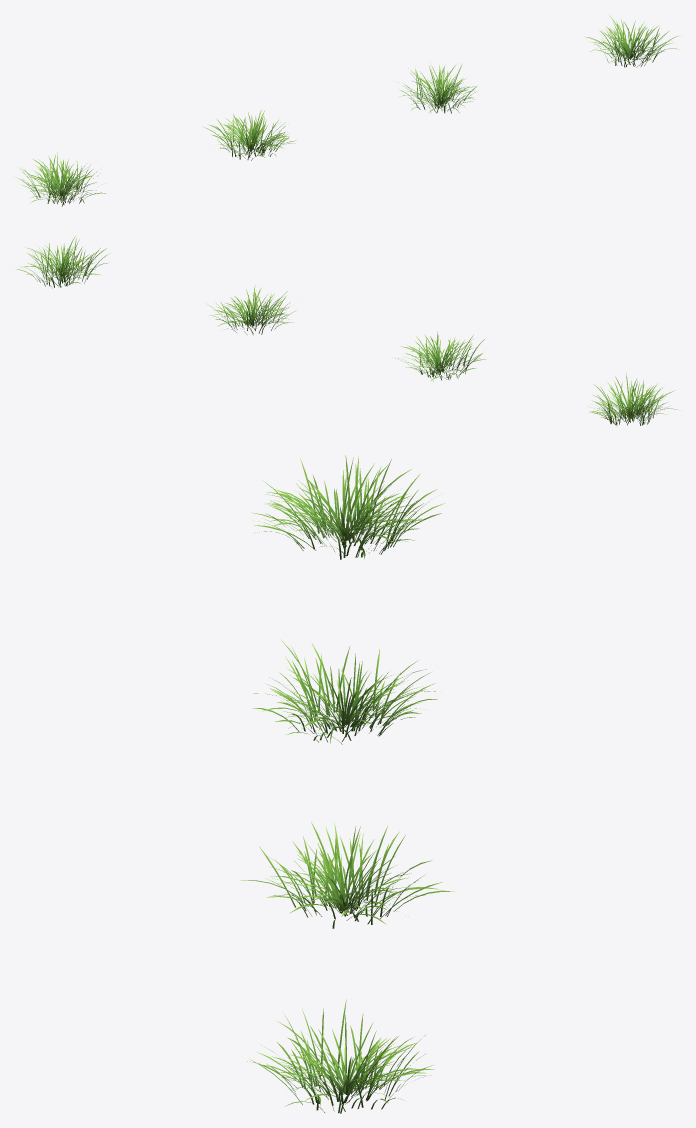
3 views of the same model, one above another, from view 1: azimuth 30°, elevation 25°; view 2: azimuth 150°, elevation 25°; view 3: azimuth 270°, elevation 25° (orthographic). The views are drawn at different scales.
Parts seen in each view (by area): view 1: moss.001, moss, moss.003, moss.002; view 2: moss, moss.003, moss.001, moss.002; view 3: moss, moss.003, moss.002, moss.001.
Boxes of the visible parts, x1,y1,x2,y2 form: moss.001: (202, 109, 295, 160); moss: (14, 152, 106, 206); moss.003: (584, 15, 679, 67); moss.002: (398, 63, 478, 113); moss: (589, 372, 677, 425); moss.003: (16, 236, 109, 288); moss.001: (395, 332, 485, 381); moss.002: (206, 284, 294, 335); moss: (251, 455, 445, 559); moss.003: (247, 999, 434, 1113); moss.002: (241, 822, 454, 928); moss.001: (252, 639, 437, 744).
Size of the model in its own units: 10.38 by 0.4887 by 1.47.
1 material, 1 textured.
